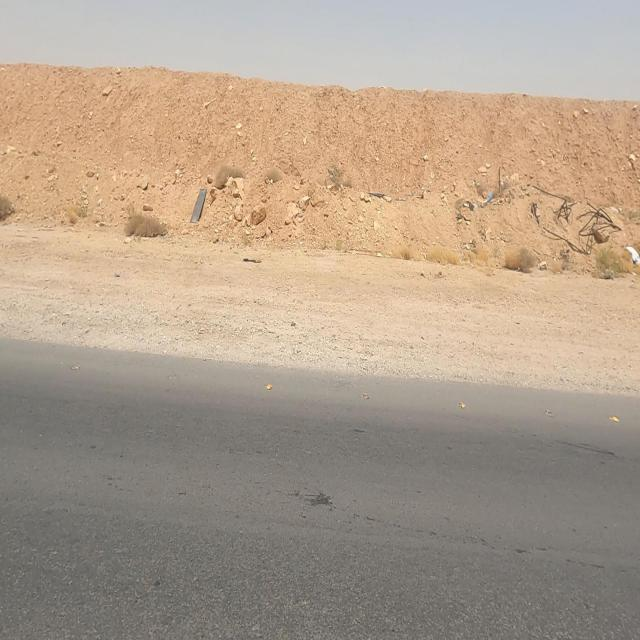debris: (478, 132, 640, 316), (154, 135, 239, 274), (437, 129, 528, 241), (603, 201, 640, 300)
